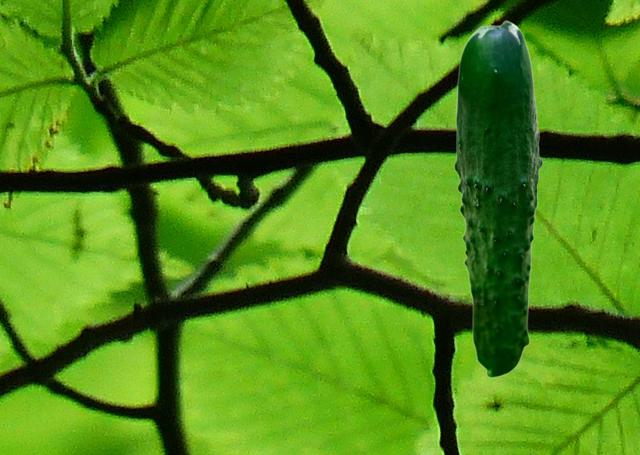cucumber: (453, 20, 542, 377)
